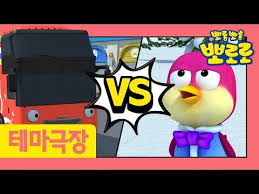Harry: (155, 50, 237, 158)
